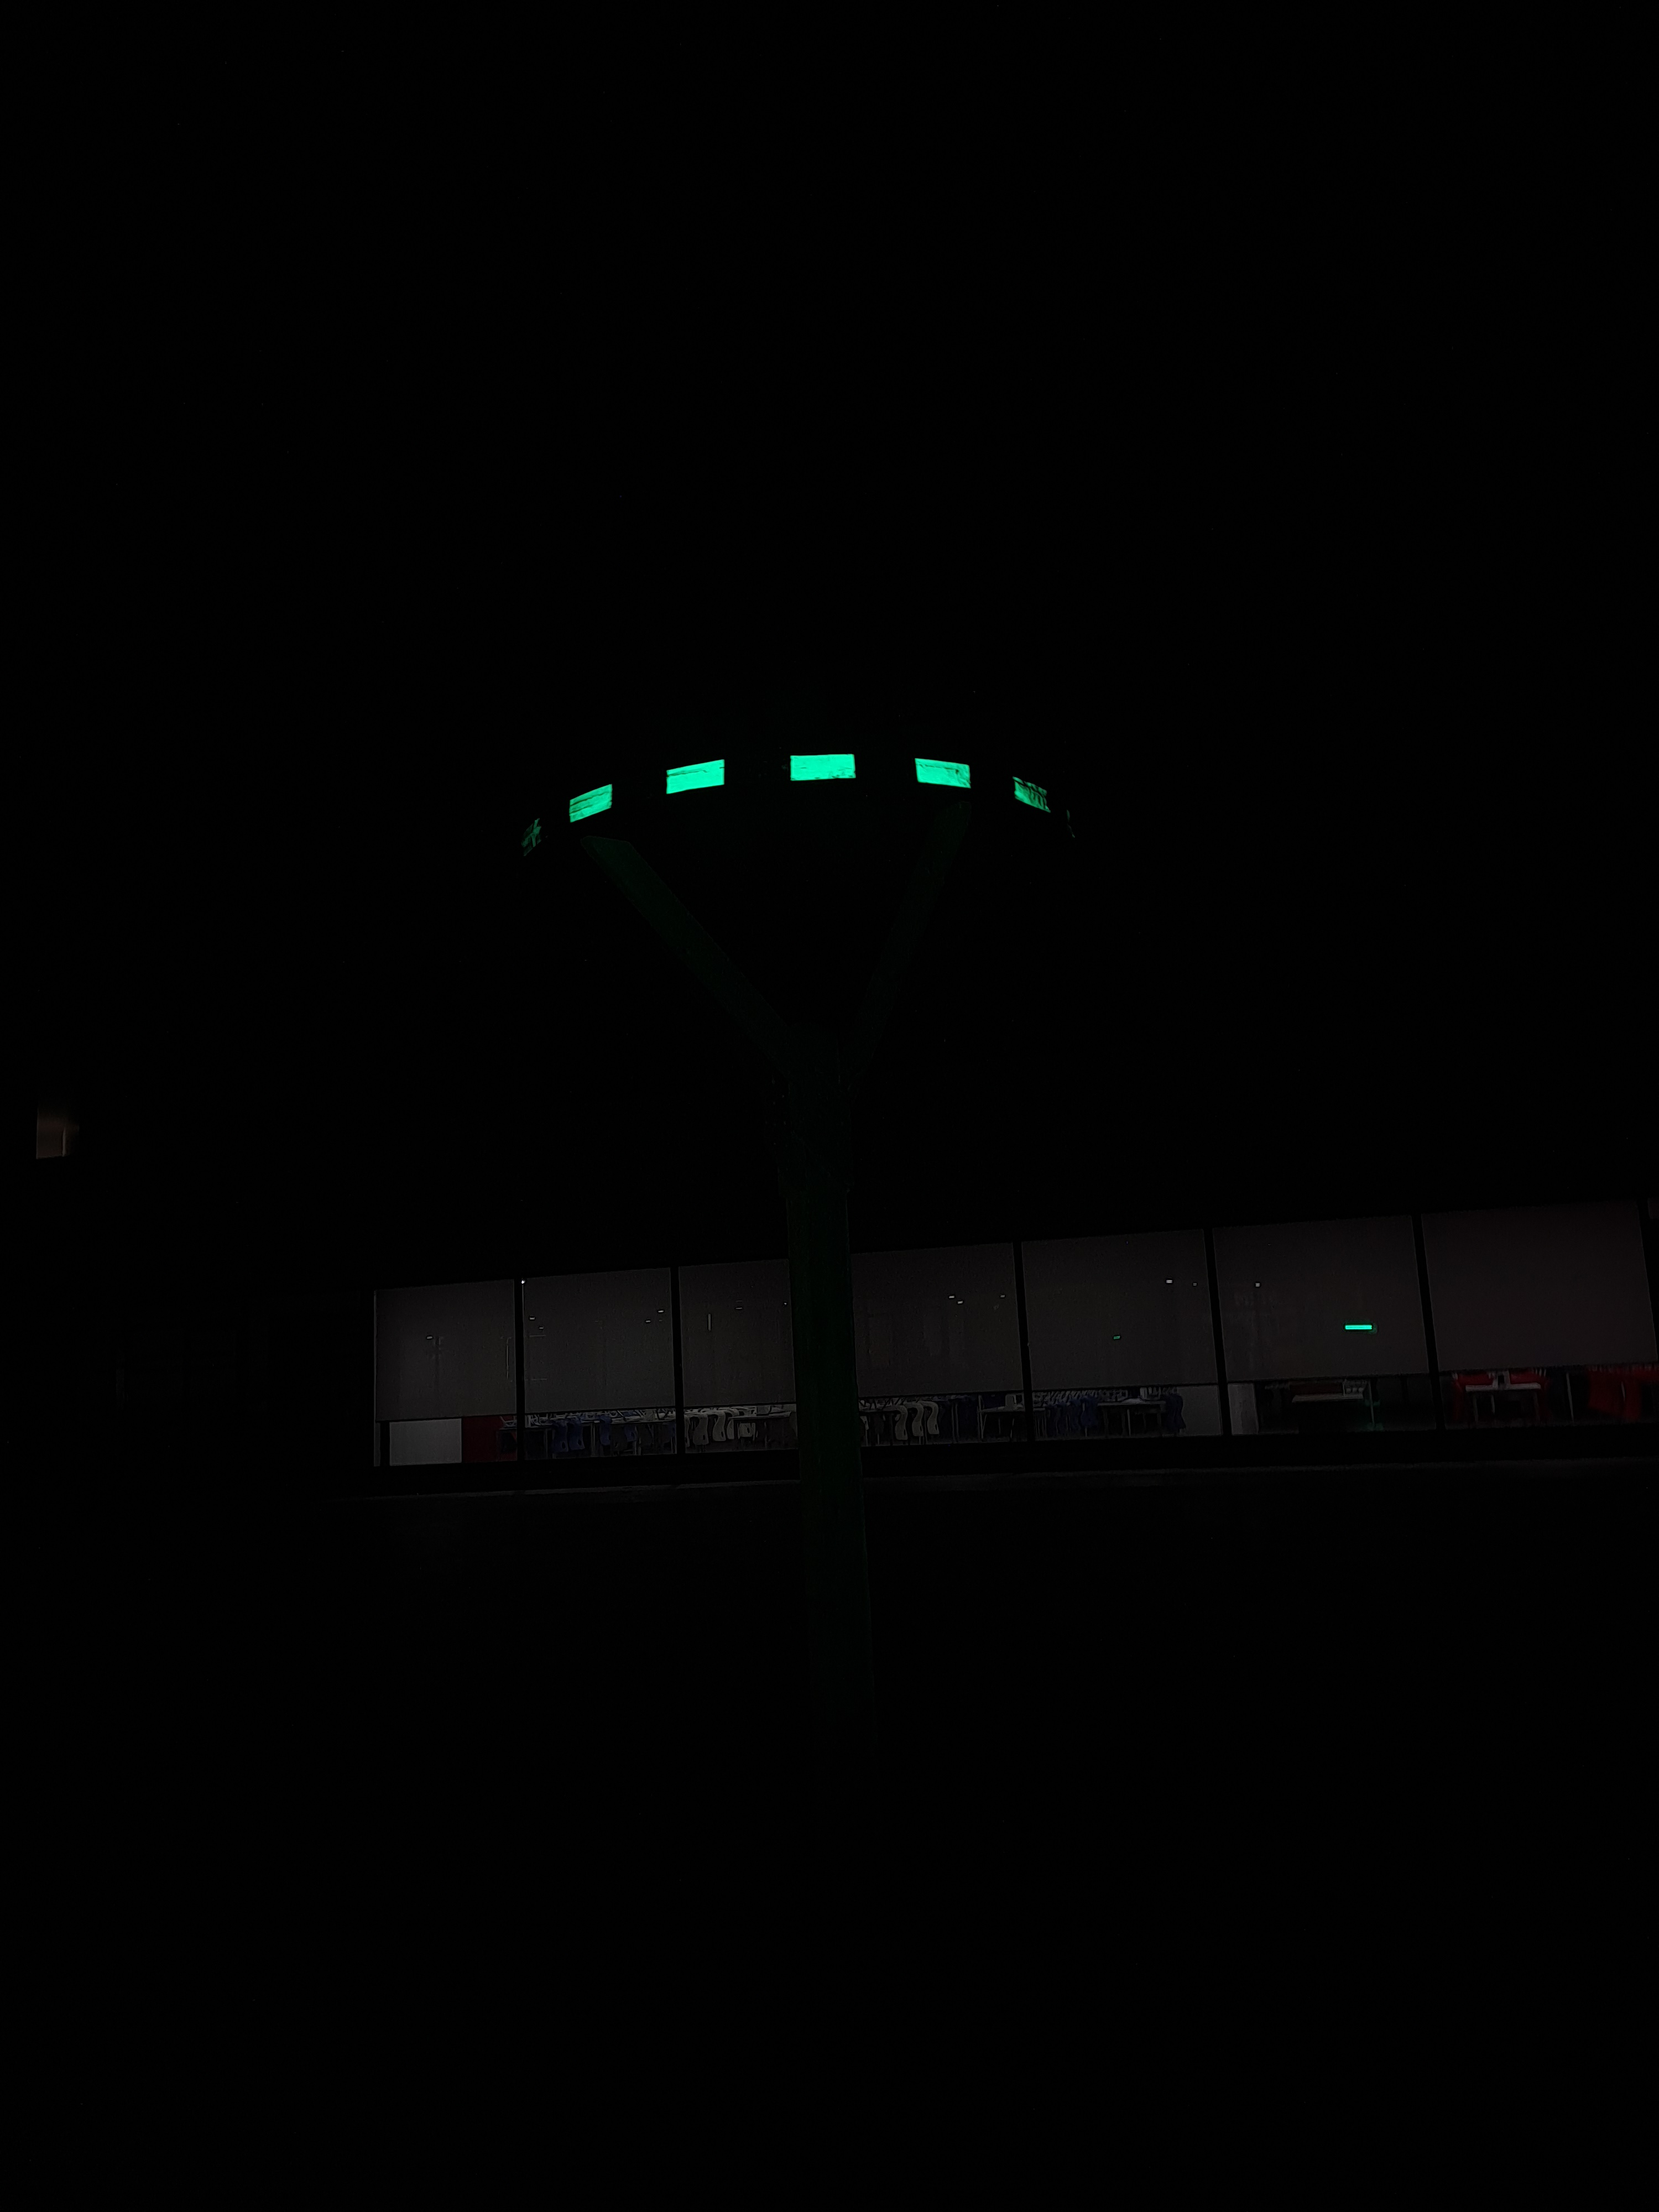hoop: (565, 751, 1056, 834)
